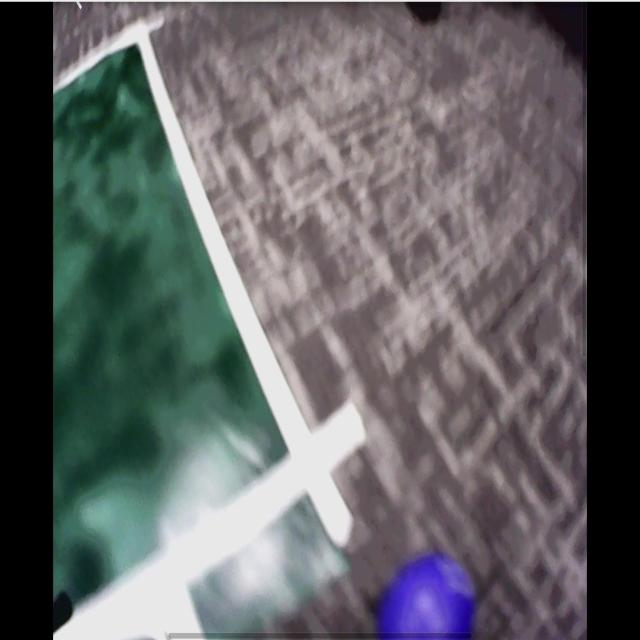ball: (378, 554, 477, 640)
